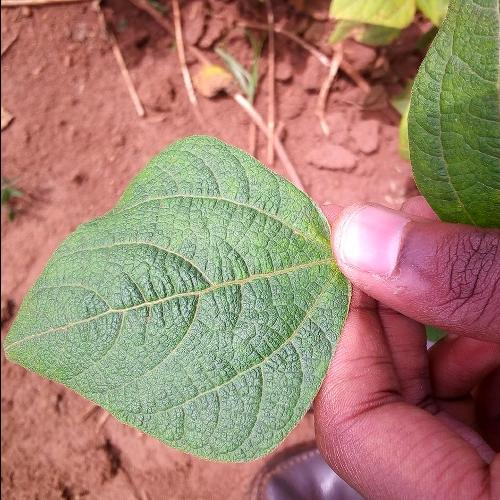embun tepung: (81, 232, 310, 388)
